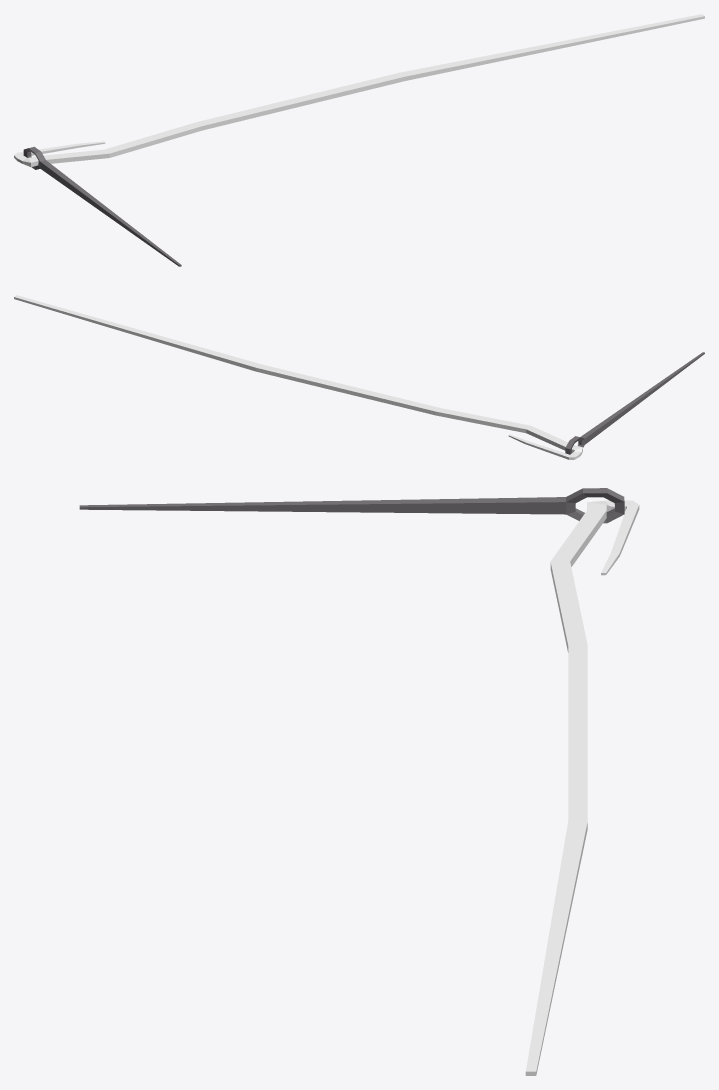
Rendered from neddle02.gltf.
3 views of the same model, one above another, from view 1: azimuth 30°, elevation 25°; view 2: azimuth 150°, elevation 25°; view 3: azimuth 270°, elevation 25° (orthographic). The views are drawn at different scales.
Parts seen in each view (by area): view 1: Cube; view 2: Cube; view 3: Cube.
Boxes of the visible parts, <box> form: Cube: <box>14,14,704,266</box>; Cube: <box>14,295,704,459</box>; Cube: <box>79,488,639,1075</box>.
Bounding box in the file's own units: 0.0652 × 0.0016 × 0.027.
1 material, 1 textured.
